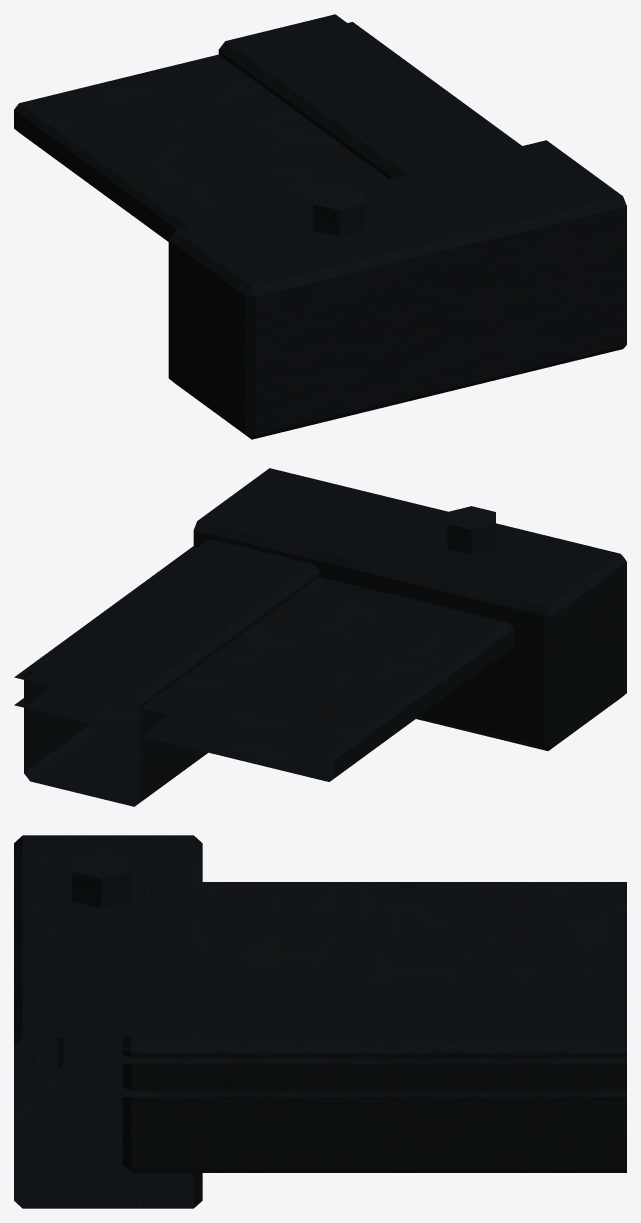
File: cell_16.obj
3 views of the same model, one above another, from view 1: azimuth 30°, elevation 25°; view 2: azimuth 150°, elevation 25°; view 3: azimuth 270°, elevation 25° (orthographic). The views are drawn at different scales.
Parts seen in each view (by area): view 1: cell_16; view 2: cell_16; view 3: cell_16.
Boxes of the visible parts, x1=… form: cell_16: x1=14, y1=14, x2=626, y2=439; cell_16: x1=14, y1=468, x2=626, y2=806; cell_16: x1=14, y1=835, x2=626, y2=1208.
Size of the model in its own units: 0.74 by 0.3487 by 0.93.
